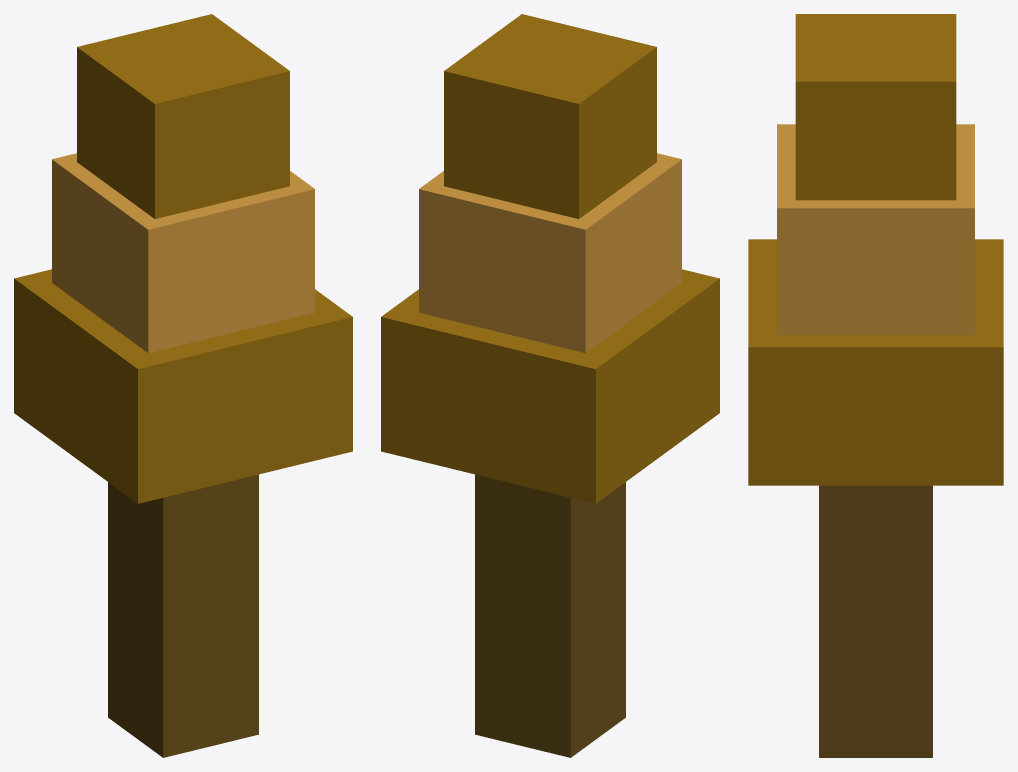
Rendered from fbx_treeoffscreen02.fbx.
3 renders of one model, left to right at view 1: azimuth 30°, elevation 25°; view 2: azimuth 150°, elevation 25°; view 3: azimuth 270°, elevation 25°, orthographic. The views are drawn at different scales.
Visible parts, largest first — view 1: sm_treeoffscreen02; view 2: sm_treeoffscreen02; view 3: sm_treeoffscreen02.
Part boxes in pixels (<box>): sm_treeoffscreen02: <box>14,14,352,757</box>; sm_treeoffscreen02: <box>381,14,719,757</box>; sm_treeoffscreen02: <box>748,14,1003,757</box>.
Size of the model in its own units: 76.94 by 228 by 76.94.
